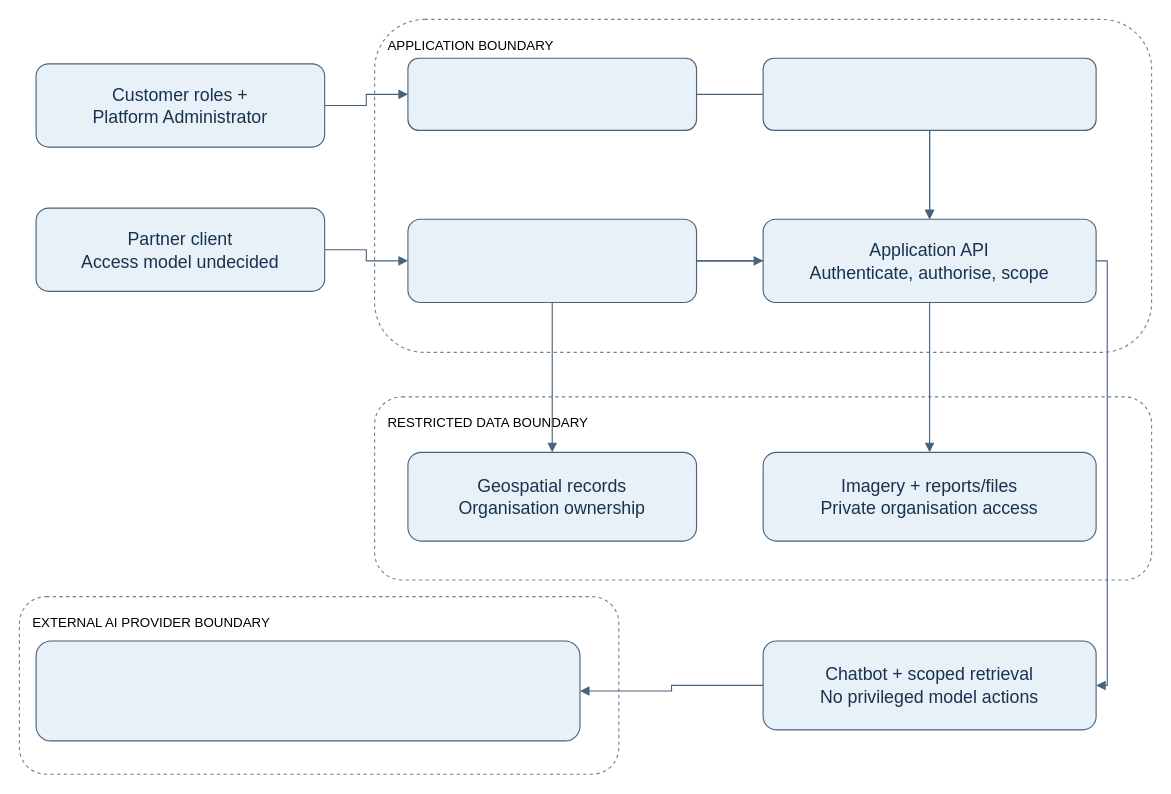
Some shapes in this 1171 by 794 pixel diagram are drawn without their labels. Here are the shapes that lost their labels. From the top down, the centre of each, then its label:
point (552, 93): Website + customer app Secure login
point (929, 93): Admin portal Privileged role checks
point (552, 260): Public partner API Authenticate + scope
point (307, 690): Model provider UNDECIDED Azure AI Foundry OR AWS Bedrock
